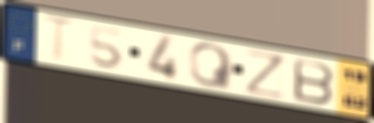4: (145, 33, 182, 84)
5: (87, 24, 125, 70)
B: (291, 56, 337, 106)
Q: (187, 42, 236, 92)
T: (40, 13, 80, 66)
Z: (244, 48, 289, 102)
